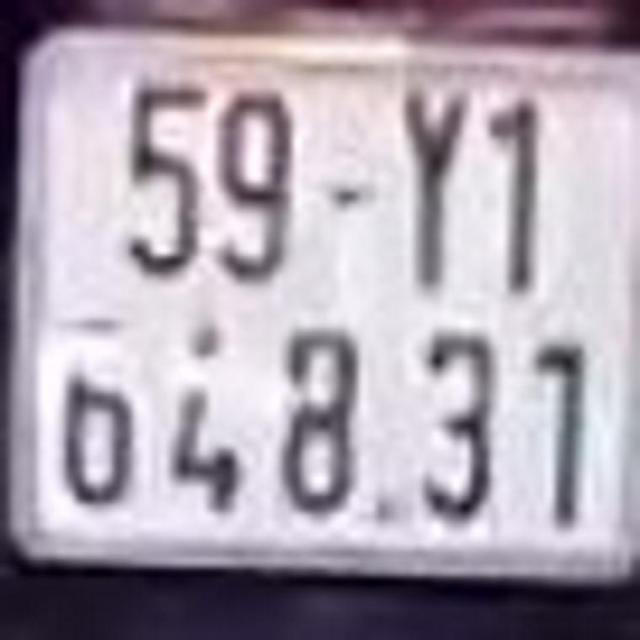1: (482, 83, 544, 296), (529, 340, 593, 532)
3: (411, 319, 489, 526)
4: (164, 305, 248, 513)
5: (123, 76, 210, 278)
6: (56, 306, 138, 504)
8: (278, 316, 364, 514)
9: (216, 83, 294, 288)
Y: (398, 70, 471, 296)
